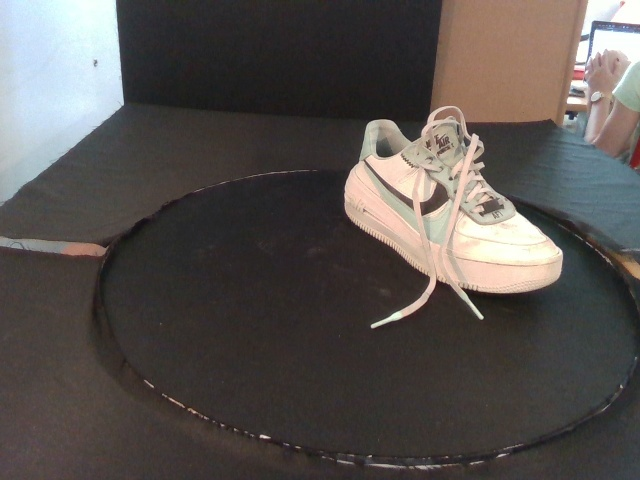shoe: (343, 116, 564, 294)
